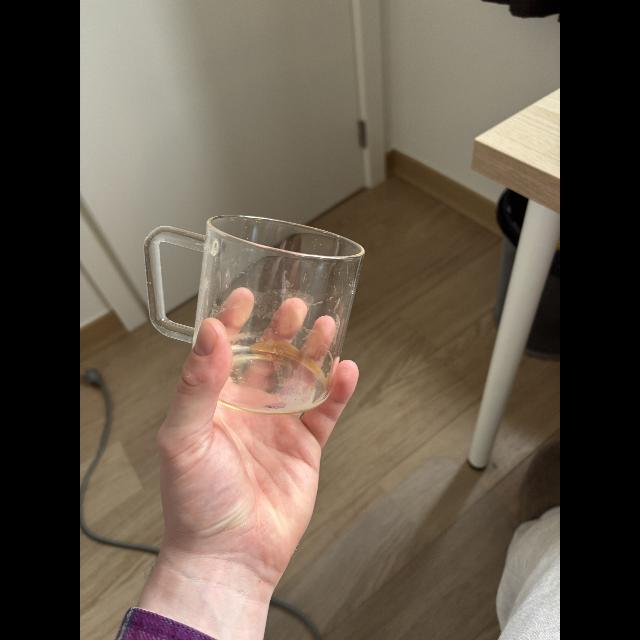Glass: (142, 205, 368, 413)
